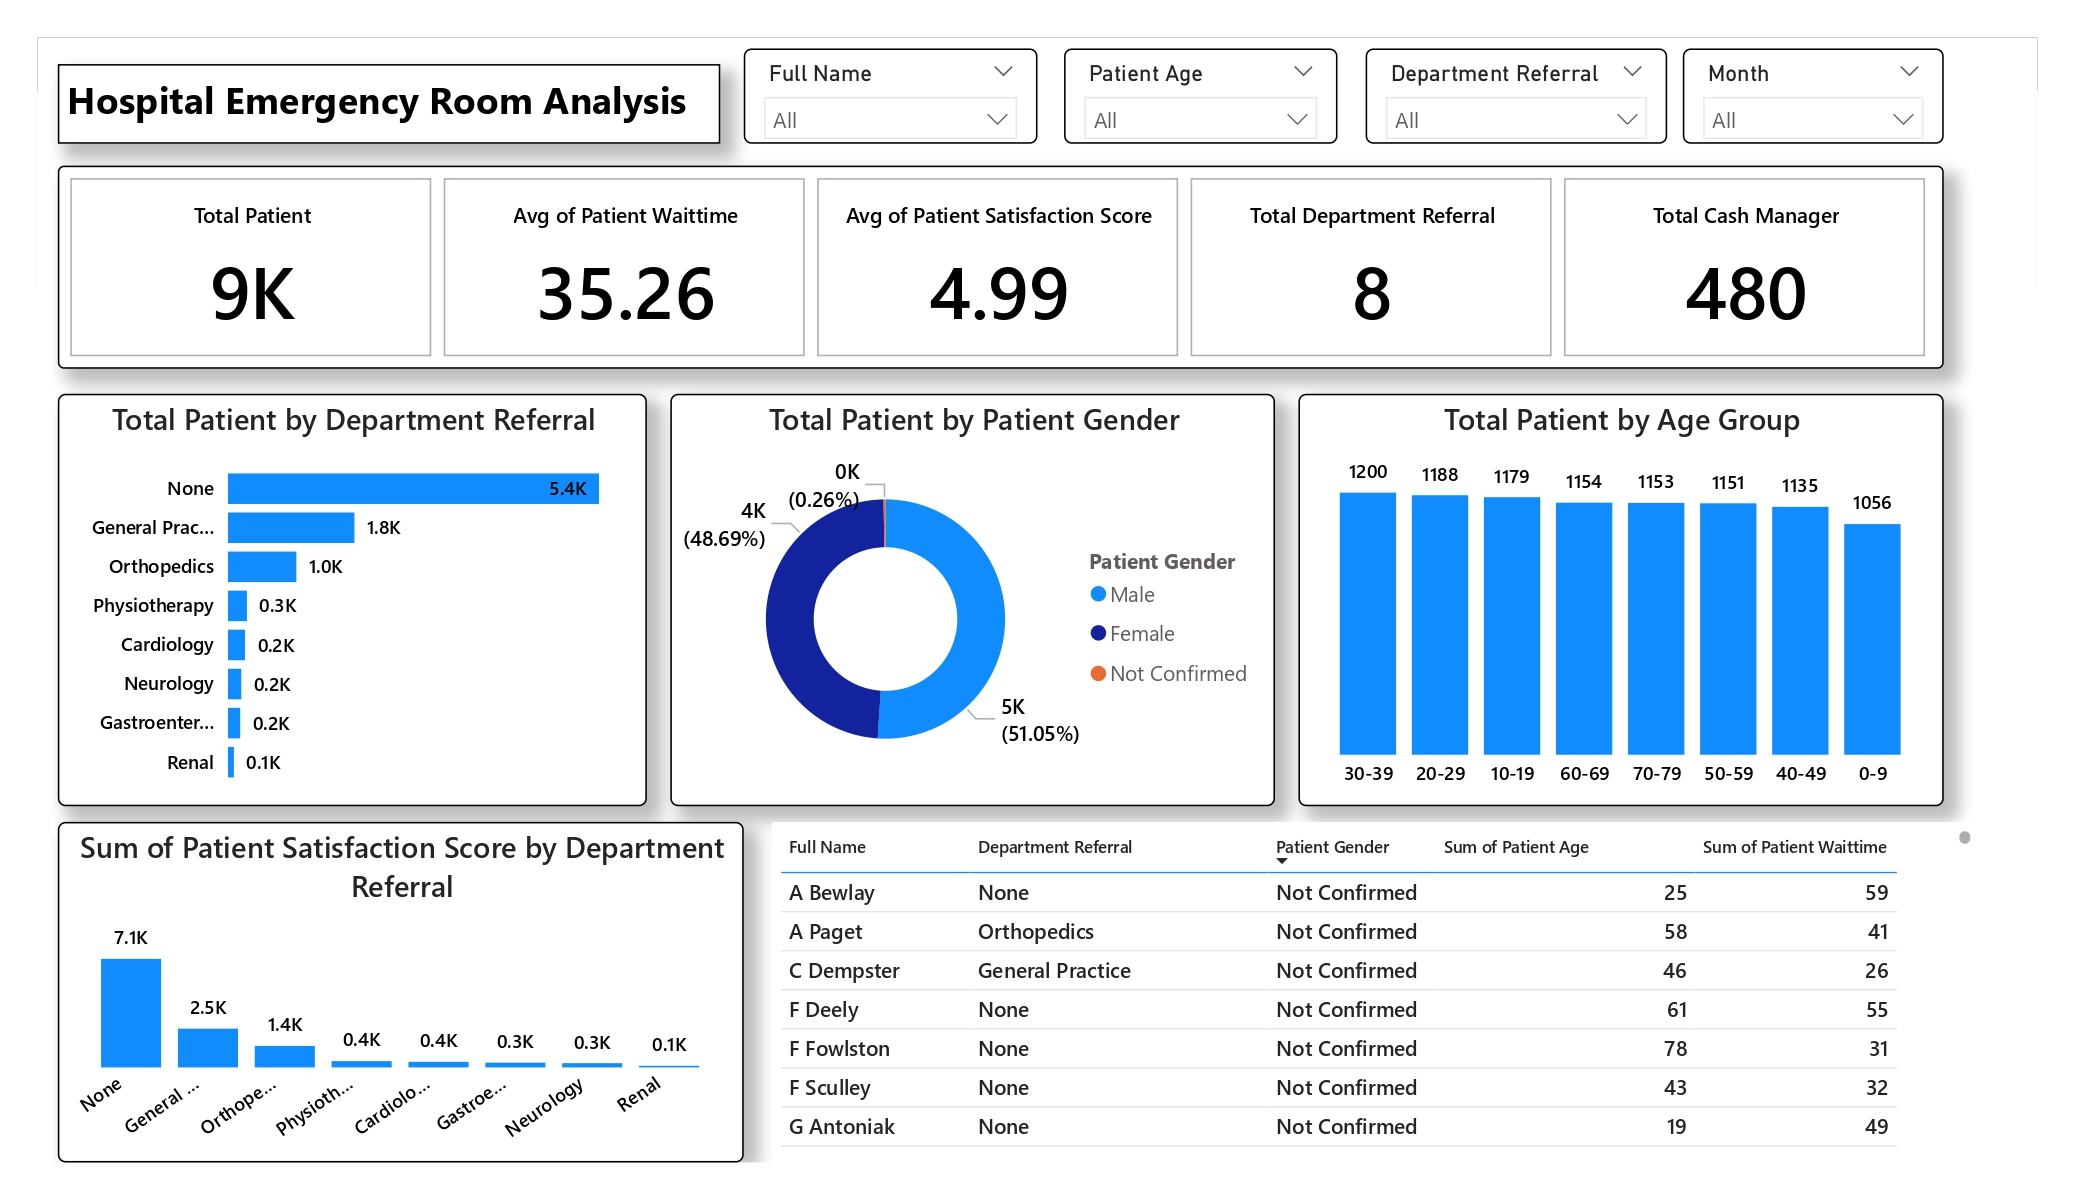

What the dashboard file says about the page in this screenshot:
{"tool":"powerbi","page":{"name":"Overview","canvas":[1280,720],"ordinal":0},"visuals":[{"type":"textbox","box":[13.3,16.7,423.3,51.7],"z":0},{"type":"slicer","fields":{"Values":["Hospital ER_Data.Full Name"]},"box":[451.7,6.7,188.3,61.7],"z":1000},{"type":"slicer","fields":{"Values":["Hospital ER_Data.Patient Age"]},"box":[656.7,6.7,175,61.7],"z":2000},{"type":"slicer","fields":{"Values":["Hospital ER_Data.Department Referral"]},"box":[850,6.7,193.3,61.7],"z":3000},{"type":"slicer","fields":{"Values":["Date Table.Date.Variation.Date Hierarchy.Month"]},"box":[1053.3,6.7,166.7,61.7],"z":4000},{"type":"cardVisual","fields":{"Data":["Hospital ER_Data.Total Patient","Avg(Hospital ER_Data.Patient Waittime)","Avg(Hospital ER_Data.Patient Satisfaction Score)","Count(Hospital ER_Data.Department Referral)","Sum(Hospital ER_Data.Patients CM)"]},"box":[13.3,81.7,1206.7,130],"z":5000},{"type":"barChart","fields":{"Y":["Hospital ER_Data.Total Patient"],"Category":["Hospital ER_Data.Department Referral"]},"box":[13.3,228.3,376.7,263.3],"z":6000},{"type":"donutChart","fields":{"Y":["Hospital ER_Data.Total Patient"],"Category":["Hospital ER_Data.Patient Gender"]},"box":[405,228.3,386.7,263.3],"z":7000},{"type":"clusteredColumnChart","fields":{"Y":["Hospital ER_Data.Total Patient"],"Category":["Hospital ER_Data.Age Group"]},"box":[806.7,228.3,413.3,263.3],"z":8000},{"type":"columnChart","fields":{"Y":["Sum(Hospital ER_Data.Patient Satisfaction Score)"],"Category":["Hospital ER_Data.Department Referral"]},"box":[13.3,501.7,438.3,218.3],"z":9000},{"type":"tableEx","fields":{"Values":["Hospital ER_Data.Full Name","Hospital ER_Data.Department Referral","Hospital ER_Data.Patient Gender","Sum(Hospital ER_Data.Patient Age)","Sum(Hospital ER_Data.Patient Waittime)"]},"box":[470,501.7,773.3,218.3],"z":10000}]}

Visuals, with their boxes in screenshot pixels (x1, y1, x2, y2):
textbox: [53,64,706,143]
slicer - Hospital ER_Data.Full Name: [729,48,1019,143]
slicer - Hospital ER_Data.Patient Age: [1045,48,1315,143]
slicer - Hospital ER_Data.Department Referral: [1343,48,1641,143]
slicer - Date Table.Date.Variation.Date Hierarchy.Month: [1657,48,1914,143]
cardVisual - Hospital ER_Data.Total Patient x Avg(Hospital ER_Data.Patient Waittime): [53,164,1914,364]
barChart - Hospital ER_Data.Total Patient x Hospital ER_Data.Department Referral: [53,390,634,796]
donutChart - Hospital ER_Data.Total Patient x Hospital ER_Data.Patient Gender: [657,390,1253,796]
clusteredColumnChart - Hospital ER_Data.Total Patient x Hospital ER_Data.Age Group: [1276,390,1914,796]
columnChart - Sum(Hospital ER_Data.Patient Satisfaction Score) x Hospital ER_Data.Department Referral: [53,811,729,1148]
tableEx - Hospital ER_Data.Full Name x Hospital ER_Data.Department Referral: [757,811,1950,1148]
